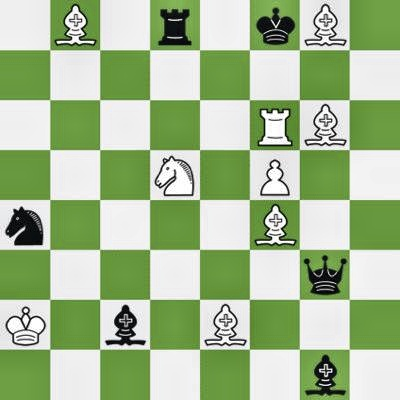black-bishop: (100, 300, 150, 350), (300, 350, 350, 400)
black-king: (250, 0, 300, 50)
black-knight: (0, 200, 50, 250)
black-queen: (300, 250, 350, 300)
black-rook: (150, 0, 200, 50)
white-bishop: (50, 0, 100, 50), (300, 0, 350, 50), (300, 100, 350, 150), (250, 200, 300, 250), (200, 300, 250, 350)
white-king: (0, 300, 50, 350)
white-knight: (150, 150, 200, 200)
white-pawn: (250, 150, 300, 200)
white-rook: (250, 100, 300, 150)
